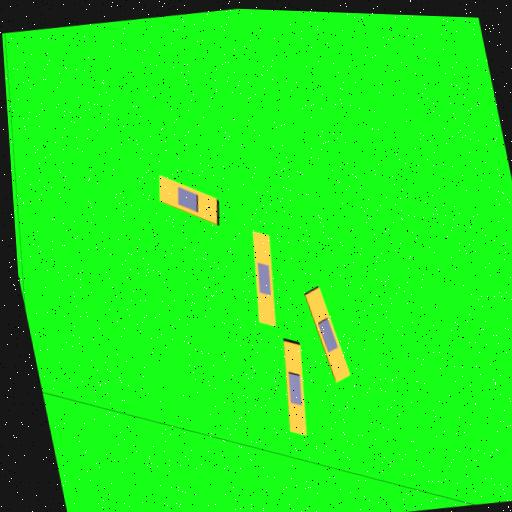objects: (304, 287, 351, 382), (151, 175, 227, 226), (253, 230, 276, 329), (284, 339, 306, 436)
